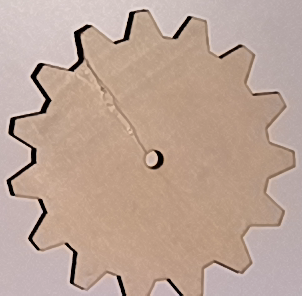Crack: (72, 54, 147, 157)
